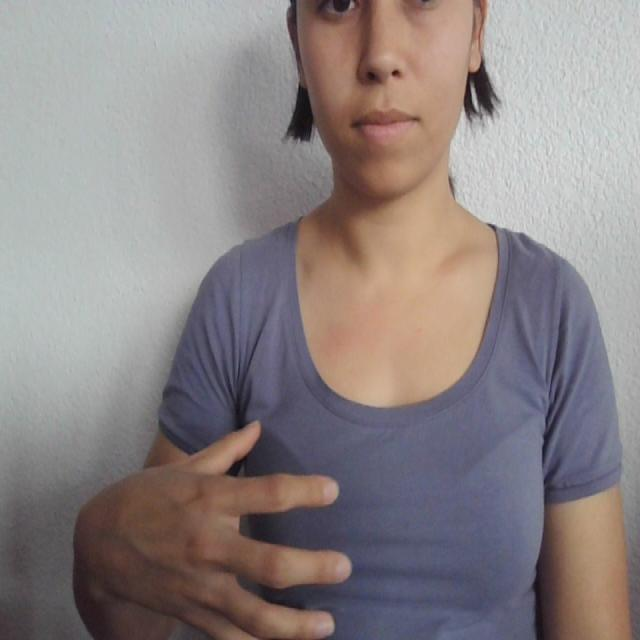Anne: (82, 407, 557, 640)
